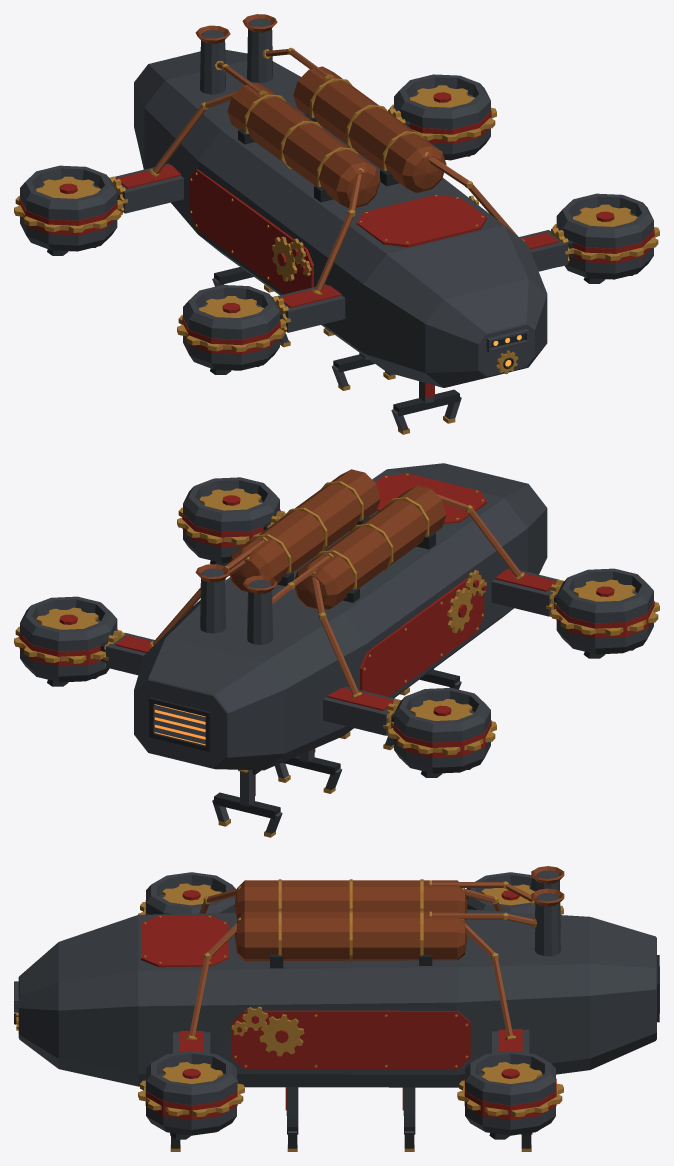
File: cog_dropship.fbx
3 renders of one model, top to bottom at view 1: azimuth 30°, elevation 25°; view 2: azimuth 150°, elevation 25°; view 3: azimuth 270°, elevation 25°, orthographic. The views are drawn at different scales.
Visible parts, largest first — view 1: Body, Engine_BR, Engine_FR, Engine_FL, Engine_BL, Hook_1, Hook_2; view 2: Body, Engine_FR, Engine_BR, Engine_BL, Engine_FL, Hook_4, Hook_3, Glow; view 3: Body, Engine_FL, Engine_BL, Engine_FR, Engine_BR, Hook_3, Hook_2.
Part boxes in pixels (x1,y1,x2,y2): Body: [109, 14, 570, 387]; Engine_BR: [14, 165, 123, 255]; Engine_FR: [177, 285, 285, 374]; Engine_FL: [552, 193, 659, 283]; Engine_BL: [389, 74, 496, 160]; Hook_1: [391, 381, 461, 434]; Hook_2: [331, 352, 395, 390]; Body: [103, 463, 563, 774]; Engine_FR: [550, 568, 659, 658]; Engine_BR: [388, 688, 496, 777]; Engine_BL: [14, 596, 121, 686]; Engine_FL: [177, 477, 284, 565]; Hook_4: [212, 769, 282, 837]; Hook_3: [275, 748, 342, 793]; Glow: [154, 704, 205, 745]; Body: [14, 866, 659, 1087]; Engine_FL: [138, 1051, 244, 1139]; Engine_BL: [457, 1051, 563, 1139]; Engine_FR: [138, 872, 235, 914]; Engine_BR: [466, 872, 563, 914]; Hook_3: [402, 1087, 415, 1151]; Hook_2: [285, 1087, 298, 1151].
Bounding box in the file's own units: 1992 × 1061 × 2430.
Materials: 14 (9 with a texture image).
